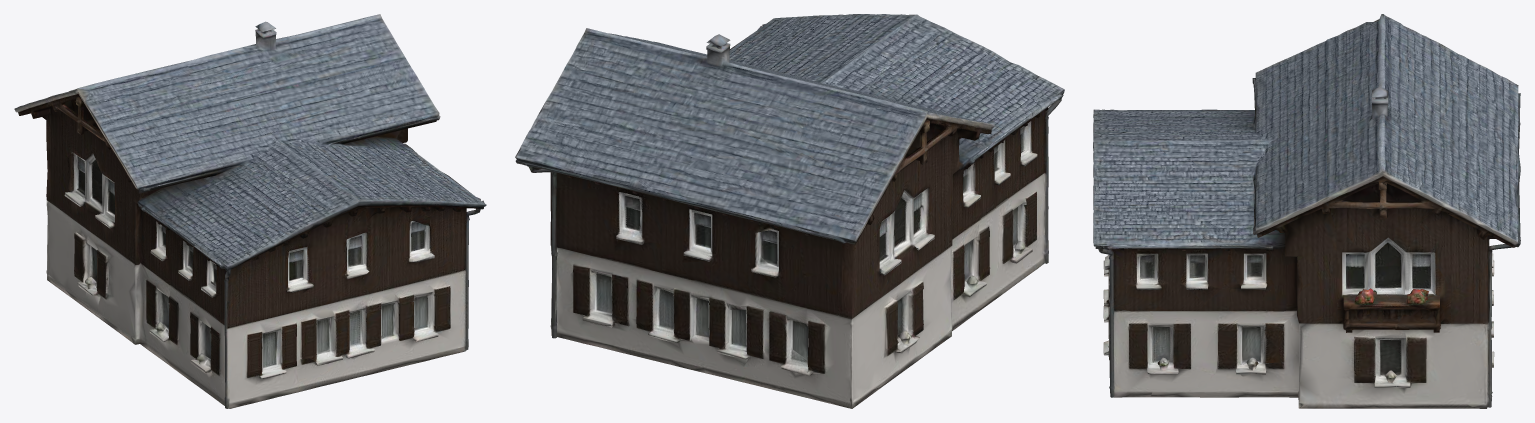
Rendered from jq_haus.glb.
3 renders of one model, left to right at view 1: azimuth 30°, elevation 25°; view 2: azimuth 150°, elevation 25°; view 3: azimuth 270°, elevation 25°, orthographic. The views are drawn at different scales.
Parts seen in each view (by area): view 1: tripo_node_502bb927-8801-4c52-8002-420984040671; view 2: tripo_node_502bb927-8801-4c52-8002-420984040671; view 3: tripo_node_502bb927-8801-4c52-8002-420984040671.
Boxes of the visible parts, left/top/right/bottom form: tripo_node_502bb927-8801-4c52-8002-420984040671: left=14, top=14, right=486, bottom=408; tripo_node_502bb927-8801-4c52-8002-420984040671: left=515, top=14, right=1064, bottom=408; tripo_node_502bb927-8801-4c52-8002-420984040671: left=1093, top=14, right=1520, bottom=408.
Size of the model in its own units: 0.8805 by 0.7028 by 1.
1 material, 1 textured.
